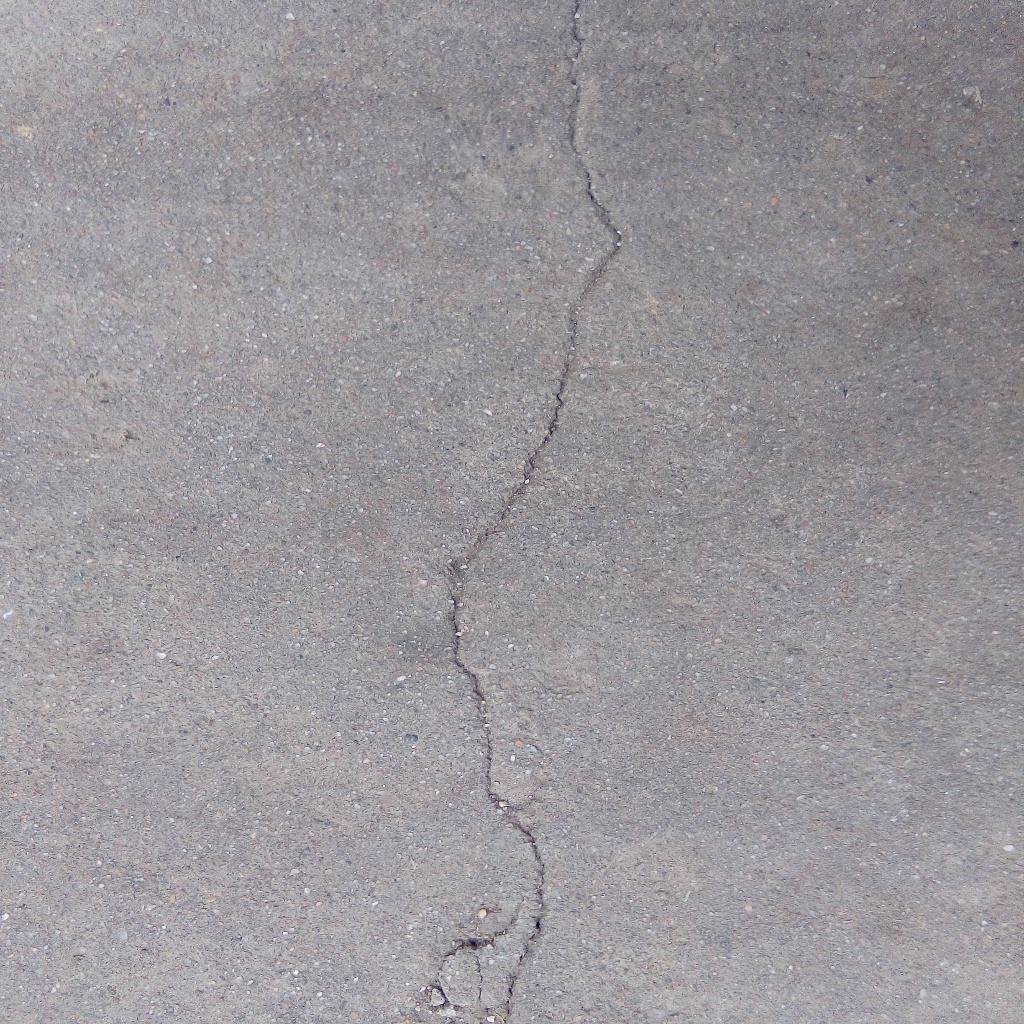Crack: (424, 1, 625, 1024)
